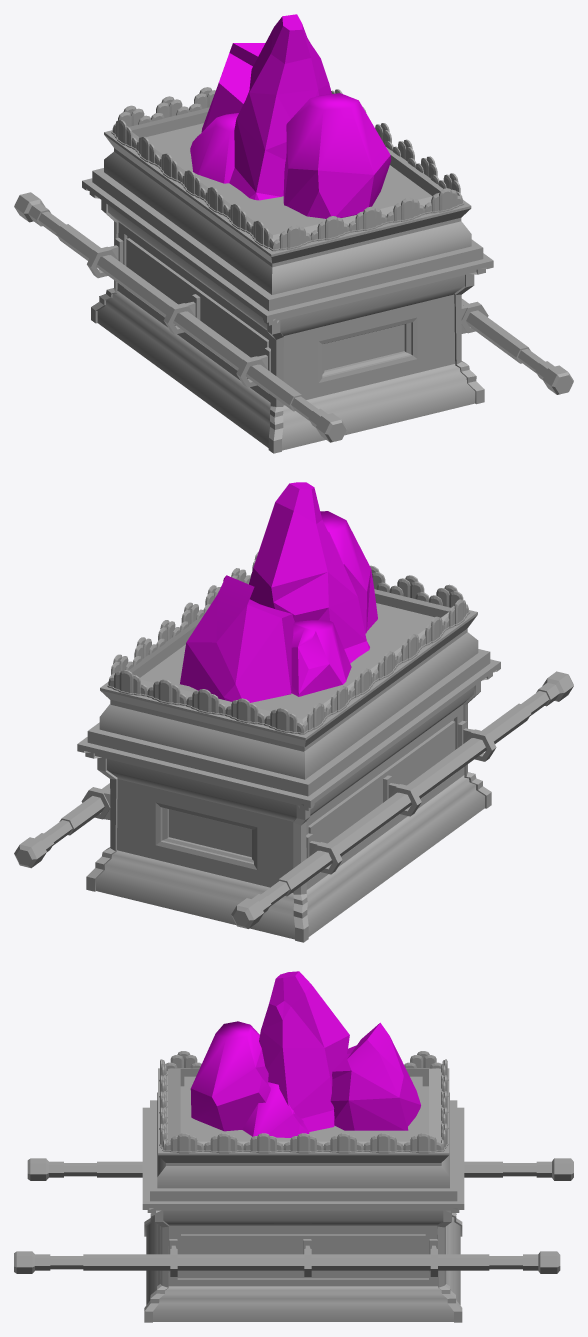
The model's file is mesh_finalChest.fbx.
The picture shows the model from 3 angles, top to bottom: view 1: azimuth 30°, elevation 25°; view 2: azimuth 150°, elevation 25°; view 3: azimuth 270°, elevation 25°; orthographic projection. The views are drawn at different scales.
Parts seen in each view (by area): view 1: pCube197, pCube200, mesh_crystalLight_crystal1, mesh_crystalLight_crystal2, pCylinder97, pCube208, pCube198, mesh_crystalLight_crystal4, pCylinder96, mesh_crystalLight_crystal3, pCylinder205, pCylinder204 (+1 smaller); view 2: pCube197, pCube200, mesh_crystalLight_crystal2, mesh_crystalLight_crystal3, pCylinder97, pCube198, mesh_crystalLight_crystal4, pCube208, mesh_crystalLight_crystal1, pCylinder96, pCylinder206, pCylinder205 (+1 smaller); view 3: pCube197, pCube200, mesh_crystalLight_crystal2, pCylinder96, mesh_crystalLight_crystal3, mesh_crystalLight_crystal1, pCylinder97, pCube198, pCube208, mesh_crystalLight_crystal5.
Boxes of the visible parts, x1,y1,x2,y2 form: pCube197: [82, 178, 493, 450]; pCube200: [92, 123, 483, 311]; mesh_crystalLight_crystal1: [283, 93, 391, 218]; mesh_crystalLight_crystal2: [229, 14, 331, 200]; pCylinder97: [14, 192, 346, 442]; pCube208: [82, 186, 493, 453]; pCube198: [129, 107, 442, 240]; mesh_crystalLight_crystal4: [190, 113, 238, 183]; pCylinder96: [461, 298, 573, 394]; mesh_crystalLight_crystal3: [201, 43, 265, 132]; pCylinder205: [163, 294, 200, 334]; pCylinder204: [87, 237, 123, 278]; pCube197: [77, 659, 500, 939]; pCube200: [87, 603, 490, 796]; mesh_crystalLight_crystal2: [249, 482, 369, 663]; mesh_crystalLight_crystal3: [180, 575, 294, 702]; pCylinder97: [231, 671, 573, 928]; pCube198: [110, 582, 450, 751]; mesh_crystalLight_crystal4: [291, 620, 351, 696]; pCube208: [77, 667, 500, 942]; mesh_crystalLight_crystal1: [320, 511, 377, 633]; pCylinder96: [14, 783, 110, 868]; pCylinder206: [457, 720, 496, 761]; pCylinder205: [383, 775, 421, 816]; pCube197: [142, 1107, 464, 1321]; pCube200: [150, 1068, 457, 1201]; mesh_crystalLight_crystal2: [259, 971, 349, 1131]; pCylinder96: [14, 1251, 560, 1273]; mesh_crystalLight_crystal3: [330, 1022, 420, 1130]; mesh_crystalLight_crystal1: [190, 1021, 270, 1131]; pCylinder97: [27, 1158, 573, 1180]; pCube198: [168, 1068, 441, 1165]; pCube208: [142, 1208, 464, 1322]; mesh_crystalLight_crystal5: [242, 1082, 309, 1137].
Size of the model in its own units: 189 by 253 by 423.
